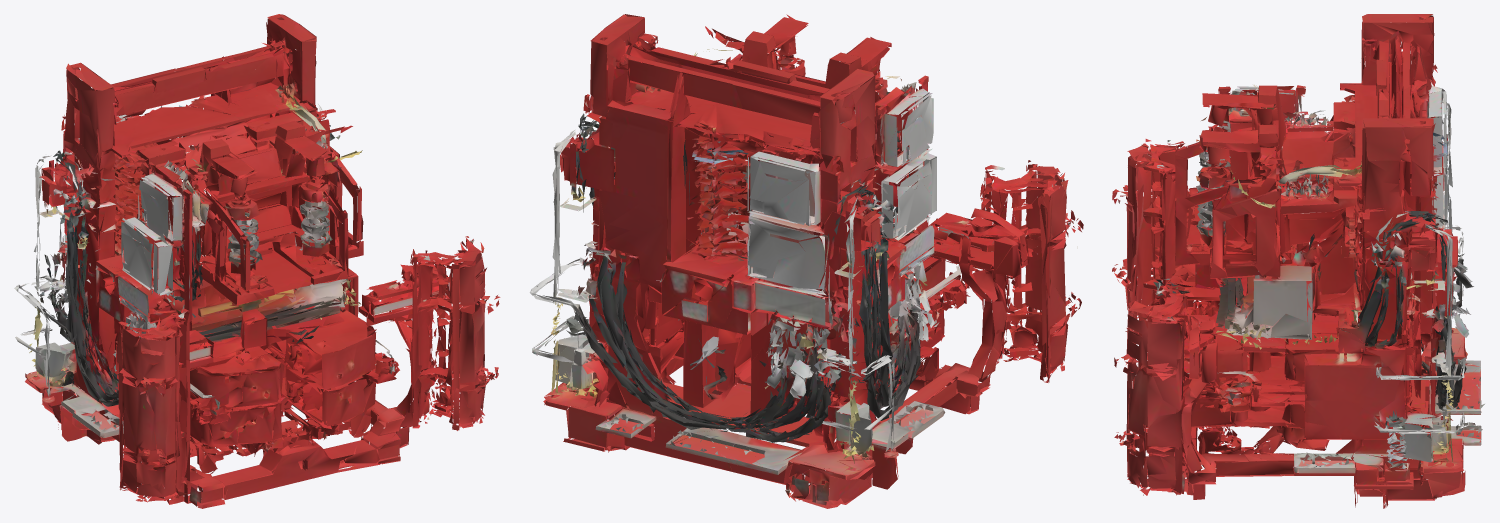
File: roughneck.glb
3 views of the same model, side by side, from view 1: azimuth 30°, elevation 25°; view 2: azimuth 150°, elevation 25°; view 3: azimuth 270°, elevation 25° (orthographic). The views are drawn at different scales.
Parts seen in each view (by area): view 1: model; view 2: model; view 3: model.
Boxes of the visible parts, x1,y1,x2,y2 form: model: (14,14,500,508); model: (529,14,1083,508); model: (1112,14,1484,508).
Size of the model in its own units: 1.88 by 1.76 by 1.6.
1 material, 1 textured.
